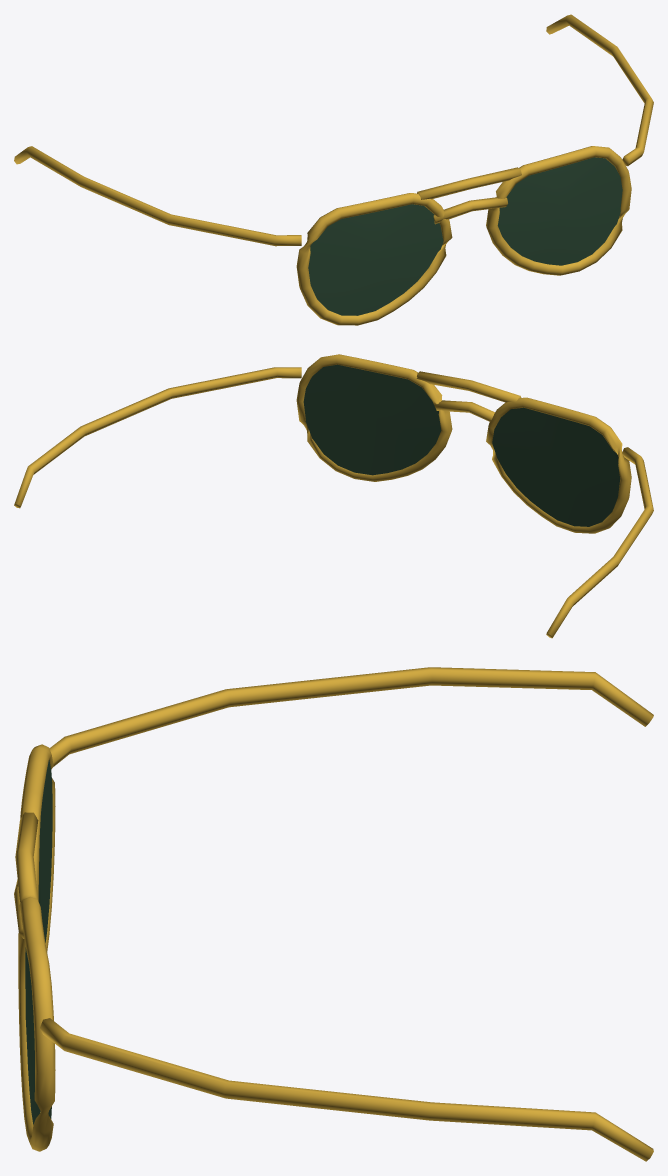
The model's file is gafas_aviador.glb.
3 views of the same model, one above another, from view 1: azimuth 30°, elevation 25°; view 2: azimuth 150°, elevation 25°; view 3: azimuth 270°, elevation 25° (orthographic). The views are drawn at different scales.
Visible parts, largest first — view 1: gafas_aviador; view 2: gafas_aviador; view 3: gafas_aviador.
Boxes of the visible parts, x1,y1,x2,y2 form: gafas_aviador: (14,14,653,325); gafas_aviador: (14,354,653,638); gafas_aviador: (14,667,653,1161).
Size of the model in its own units: 1.04 by 0.2211 by 0.6291.
